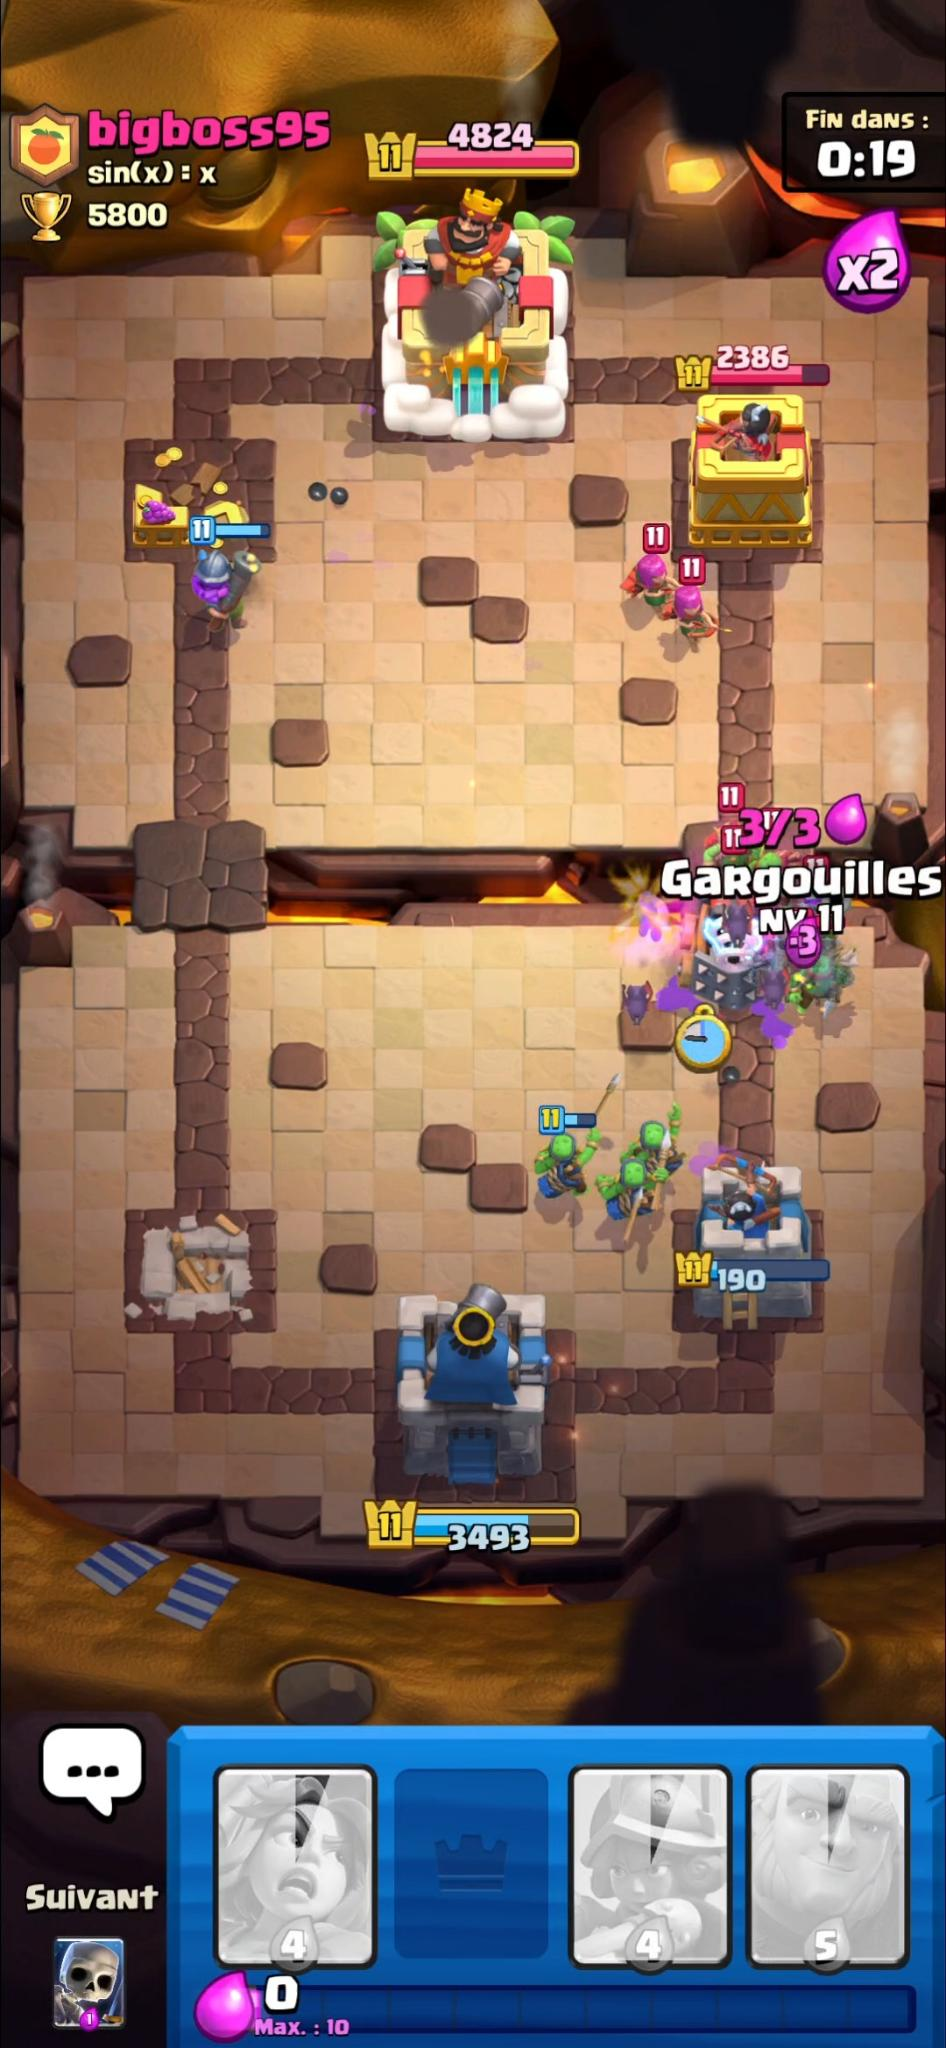archere: (662, 577, 732, 652), (619, 552, 683, 610)
bat: (619, 974, 664, 1031), (720, 905, 760, 950)
gobelin_lances: (597, 1161, 669, 1230), (536, 1132, 608, 1199), (622, 1118, 702, 1174)
mousquetaire: (189, 546, 269, 636)
zappy: (685, 895, 777, 1010)
